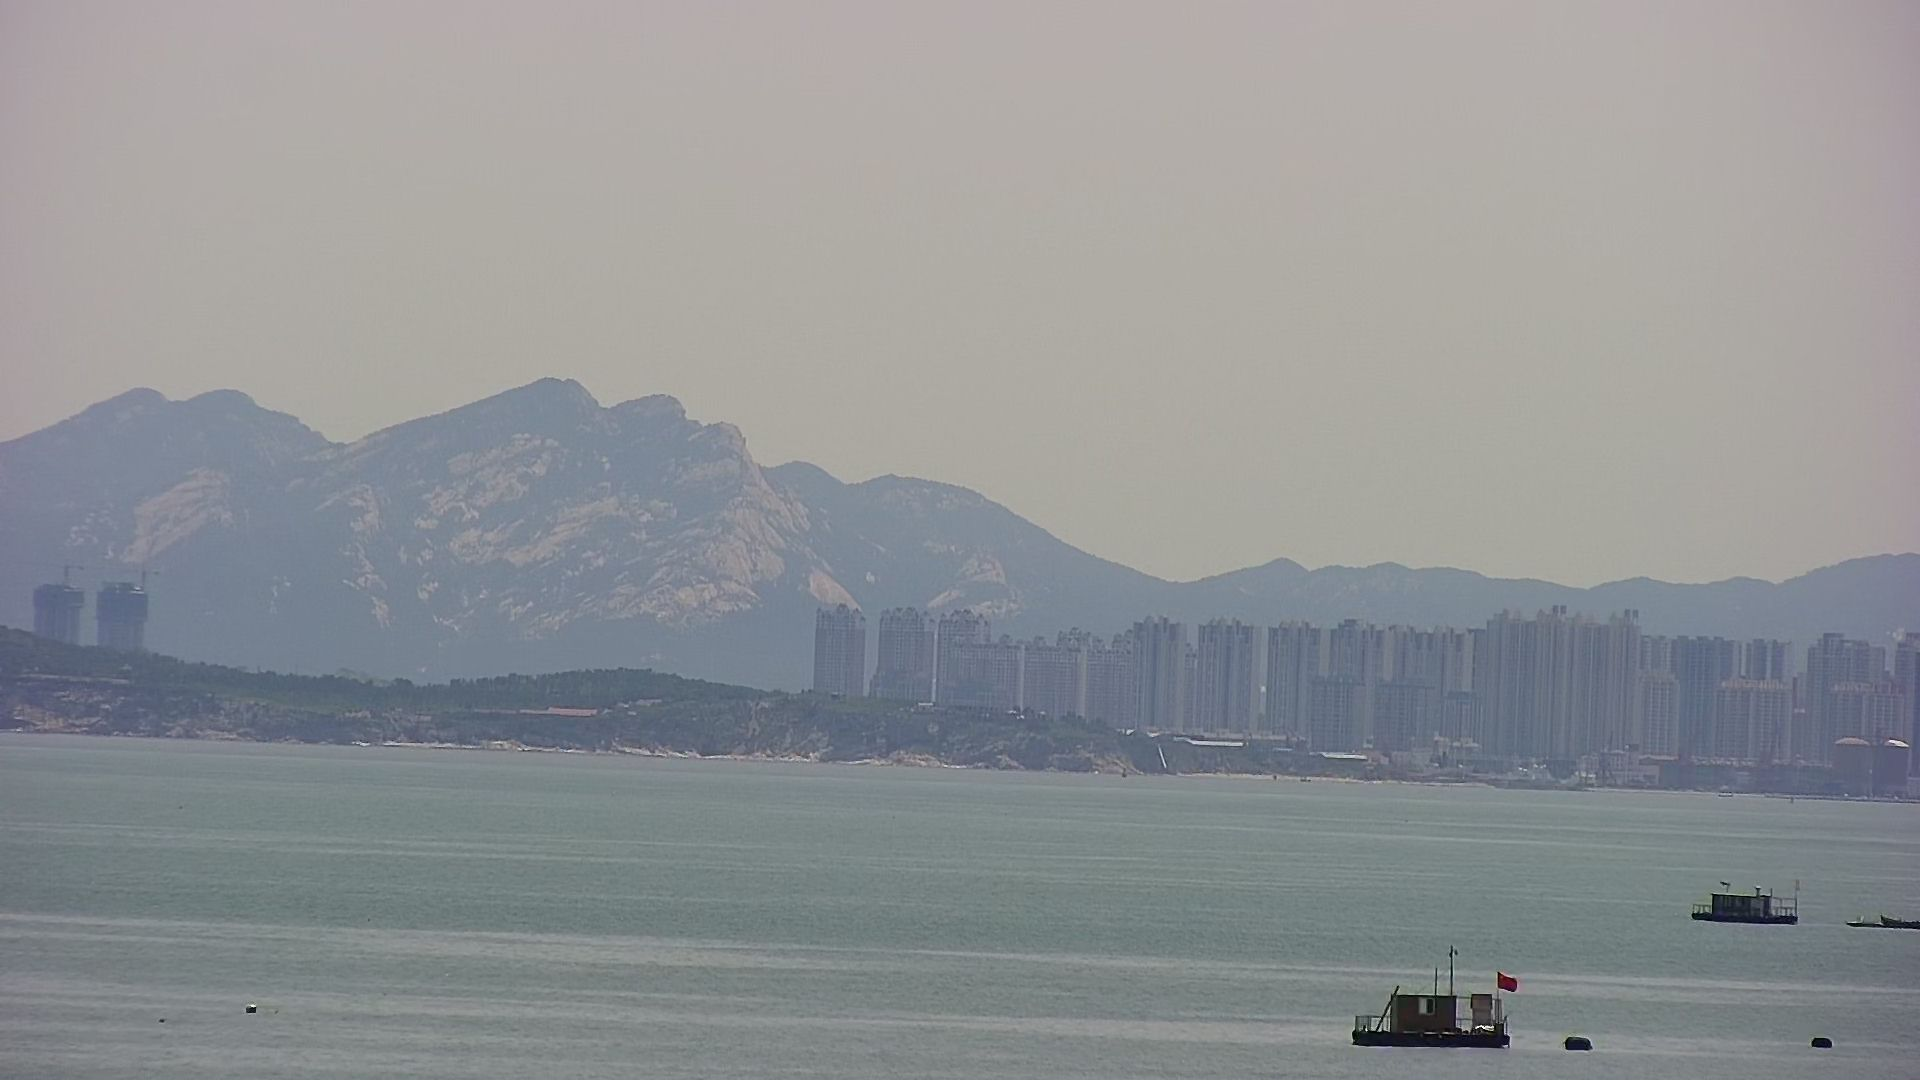ball: (1560, 1031, 1601, 1050), (1807, 1034, 1838, 1054)
platform: (1342, 943, 1520, 1050), (1692, 884, 1803, 928)
